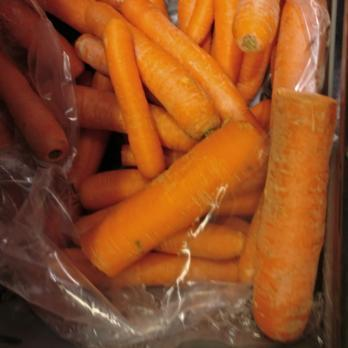Carrot: (13, 0, 337, 348)
